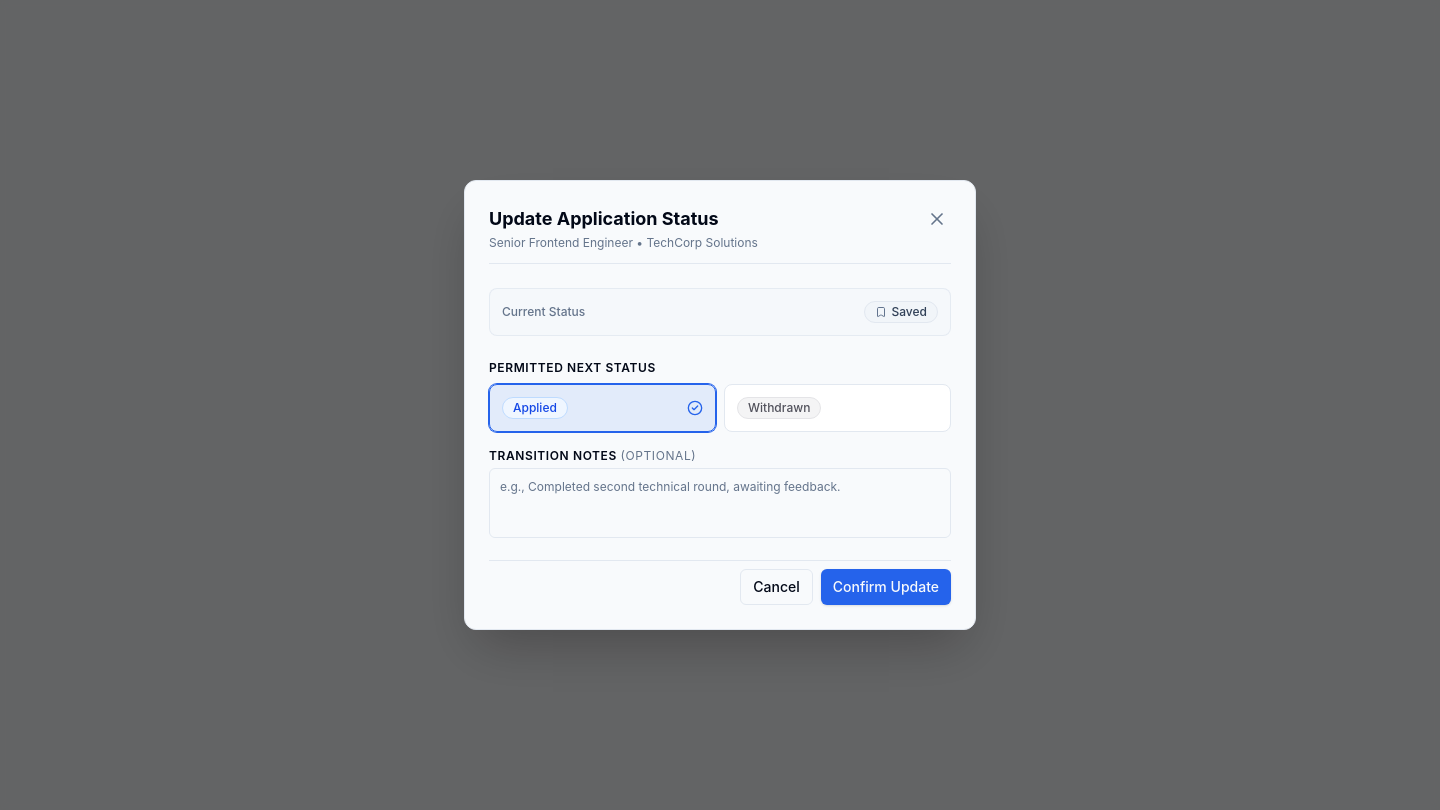
Test: StatusTransitionModal Component › handles and displays transition failure gracefully
Step 1. Click the button "Confirm Update" → {"x": 886, "y": 587}, box [821,569,951,605]
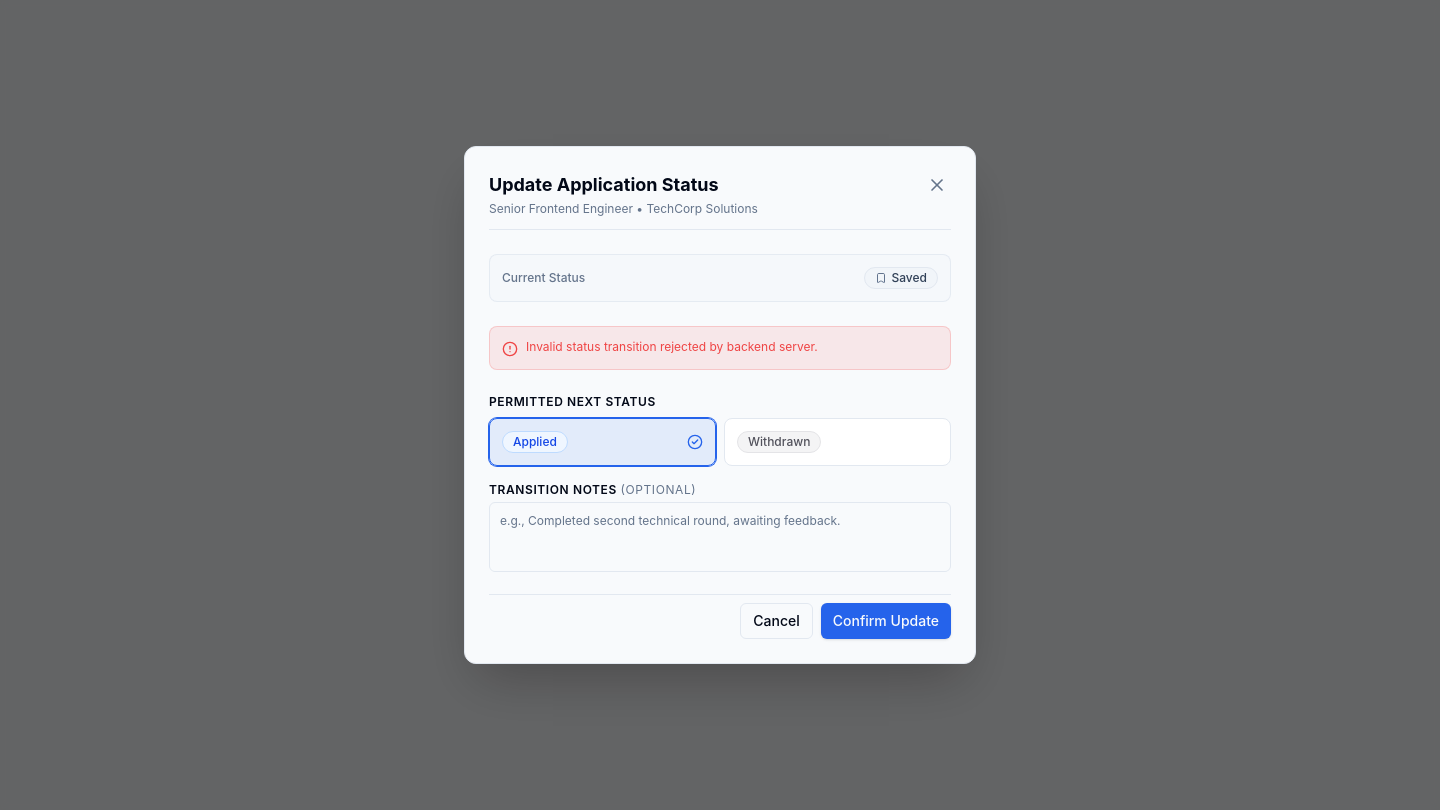
Now the text "Invalid status transition rejected by backend server." is shown, box [526,339,818,355]
